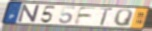5: (58, 6, 76, 25), (39, 5, 56, 24)
F: (73, 6, 99, 25)
N: (17, 4, 41, 23)
Q: (113, 8, 134, 27)
T: (99, 7, 115, 26)
